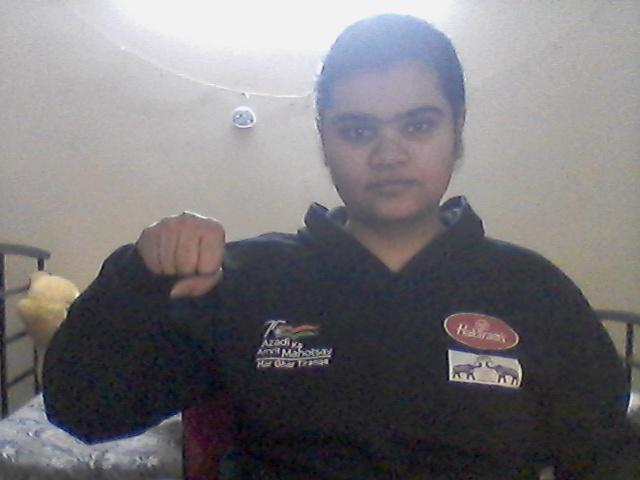yes: (133, 211, 231, 293)
